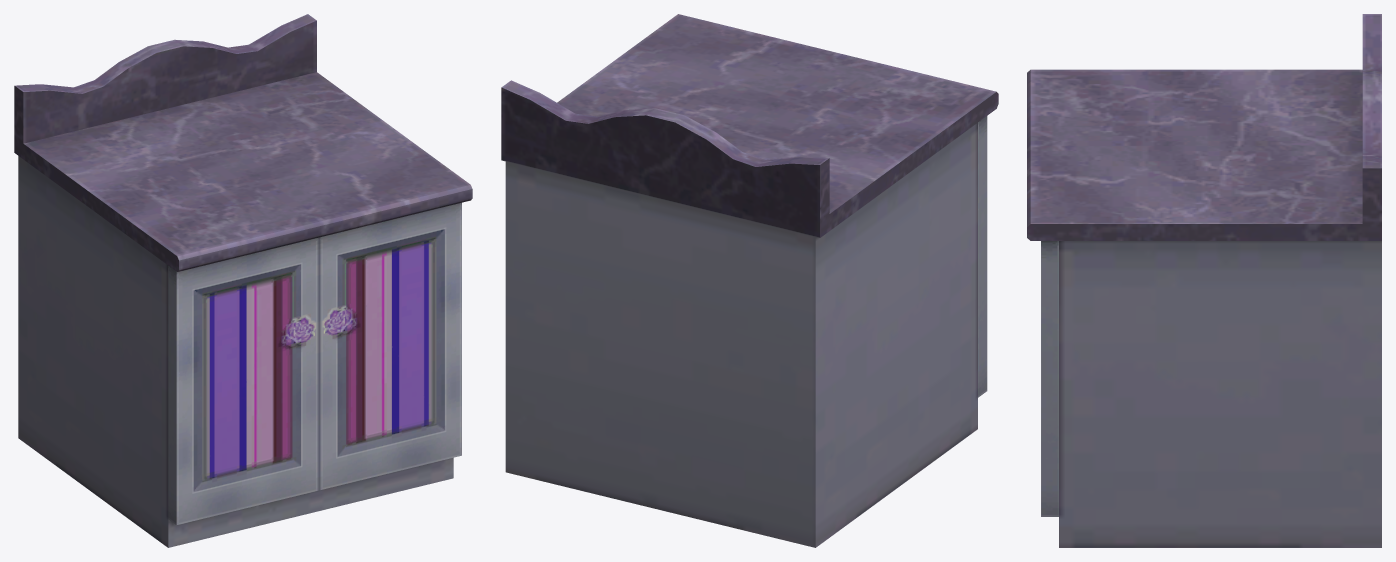
File: furni_0200616_01.FBX
3 renders of one model, left to right at view 1: azimuth 30°, elevation 25°; view 2: azimuth 150°, elevation 25°; view 3: azimuth 270°, elevation 25°, orthographic. The views are drawn at different scales.
Parts seen in each view (by area): view 1: furni_0200616_01; view 2: furni_0200616_01; view 3: furni_0200616_01.
Part boxes in pixels (box(x1,y1,x2,y2)): furni_0200616_01: box(14, 14, 472, 547); furni_0200616_01: box(501, 14, 998, 547); furni_0200616_01: box(1027, 14, 1381, 547).
Size of the model in its own units: 82.23 by 96.53 by 79.84.
Materials: 1 (1 with a texture image).
